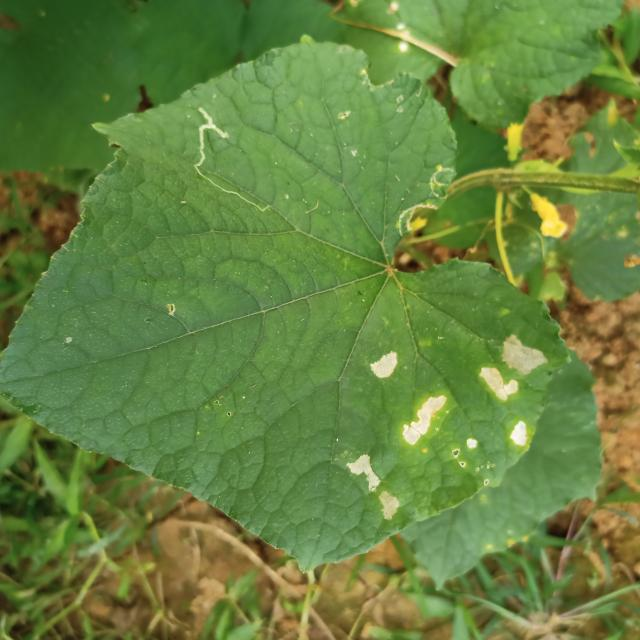disease_cucumber: (479, 331, 548, 454), (399, 391, 482, 457), (344, 449, 404, 529), (364, 346, 402, 384)
